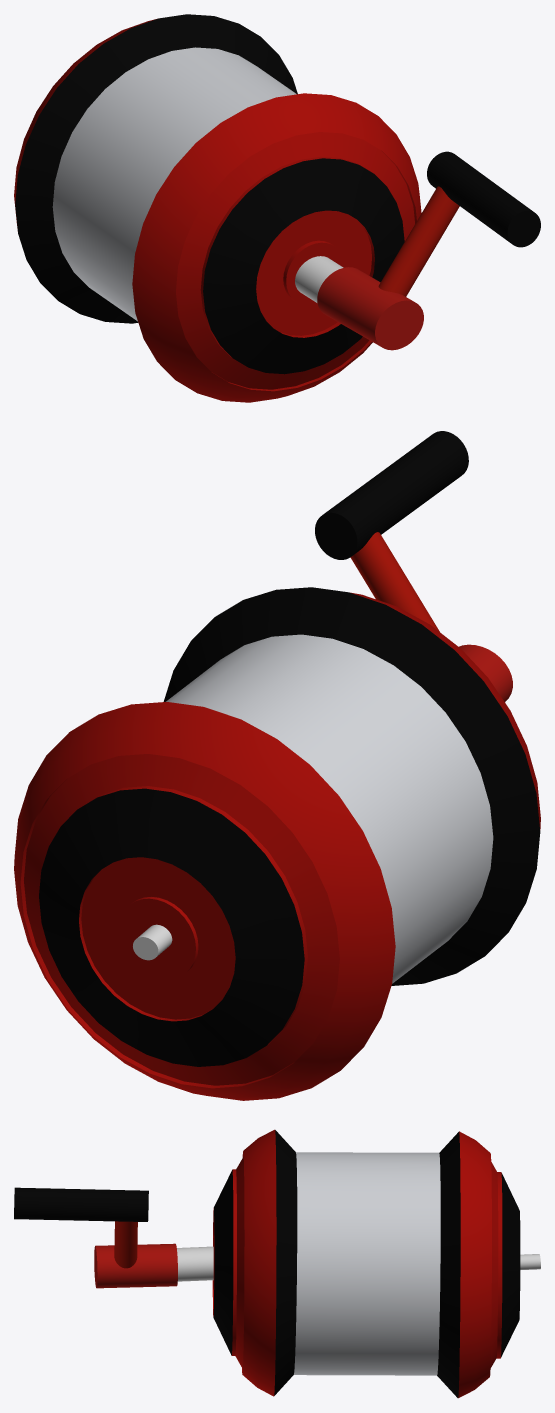
Rendered from rod.fbx.
3 views of the same model, one above another, from view 1: azimuth 30°, elevation 25°; view 2: azimuth 150°, elevation 25°; view 3: azimuth 270°, elevation 25° (orthographic). The views are drawn at different scales.
Visible parts, largest first — view 1: Silinder.001, Silinder.007, Silinder.006, Silinder.005, Silinder.002; view 2: Silinder.001, Silinder.006, Silinder.005, Silinder.007, Silinder.004; view 3: Silinder.001, Silinder.006, Silinder.007, Silinder.002, Silinder.005, Silinder.004.
Part boxes in pixels (<box>): Silinder.001: <box>14,14,421,402</box>; Silinder.007: <box>317,267,423,350</box>; Silinder.006: <box>427,151,540,247</box>; Silinder.005: <box>378,186,459,296</box>; Silinder.002: <box>295,256,343,302</box>; Silinder.001: <box>14,587,540,1100</box>; Silinder.006: <box>315,431,468,559</box>; Silinder.005: <box>350,532,439,631</box>; Silinder.007: <box>459,644,512,701</box>; Silinder.004: <box>133,924,172,960</box>; Silinder.001: <box>212,1129,520,1398</box>; Silinder.006: <box>14,1187,148,1221</box>; Silinder.007: <box>94,1243,177,1288</box>; Silinder.002: <box>177,1246,213,1281</box>; Silinder.005: <box>114,1221,137,1268</box>; Silinder.004: <box>520,1254,540,1269</box>.
Size of the model in its own units: 35.17 by 34.74 by 67.75.
